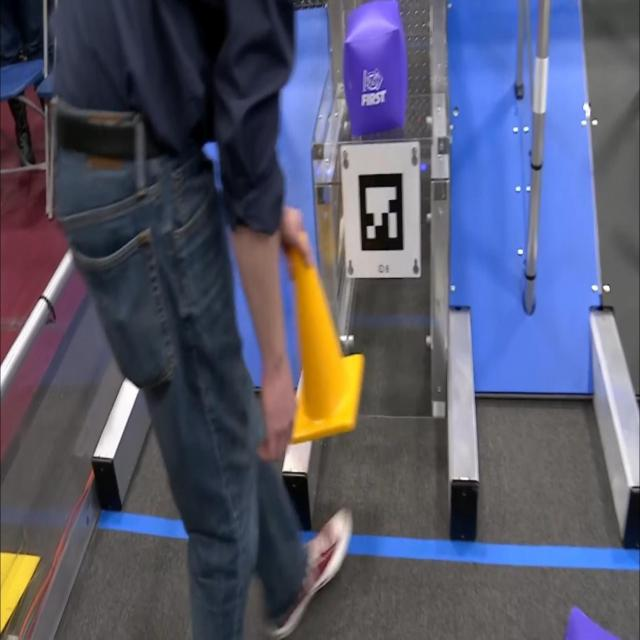frc_cone: (288, 230, 364, 439), (272, 74, 296, 139)
frc_cube: (342, 4, 407, 135), (541, 601, 640, 640)
